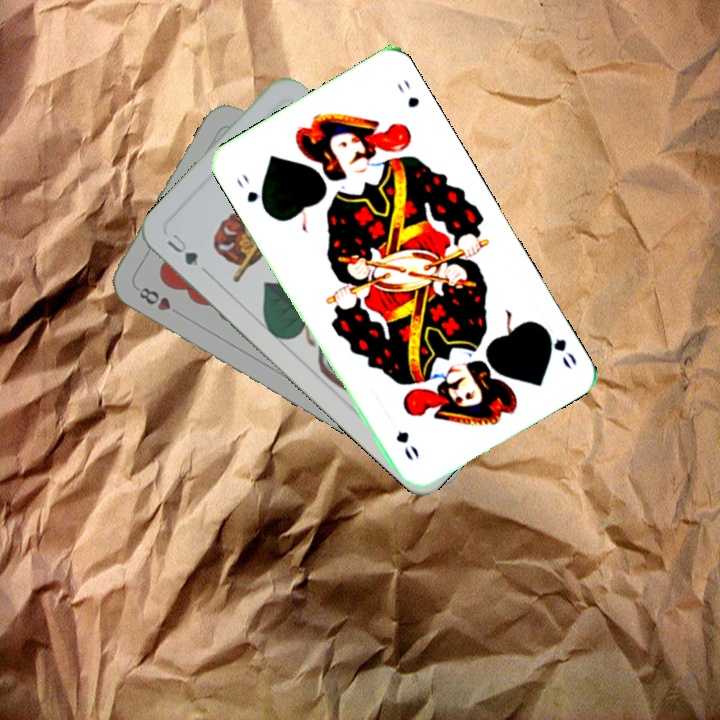GO: (537, 321, 580, 372), (232, 169, 271, 215)
GU: (162, 229, 202, 269)
H8: (135, 283, 185, 319)
